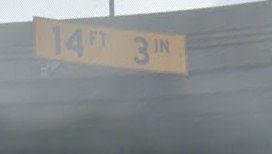1: (49, 24, 63, 57)
3: (128, 33, 151, 66)
4: (64, 26, 86, 59)
overheadsign: (31, 15, 189, 76)
